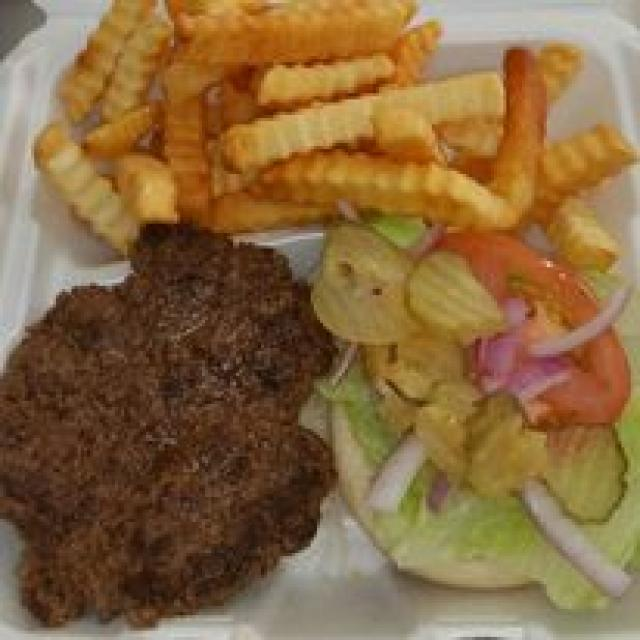Burger: (6, 242, 628, 609)
French Fries: (24, 0, 622, 256)
